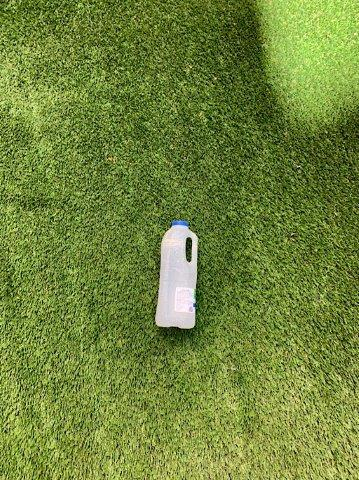botolplastik: (155, 221, 194, 327)
